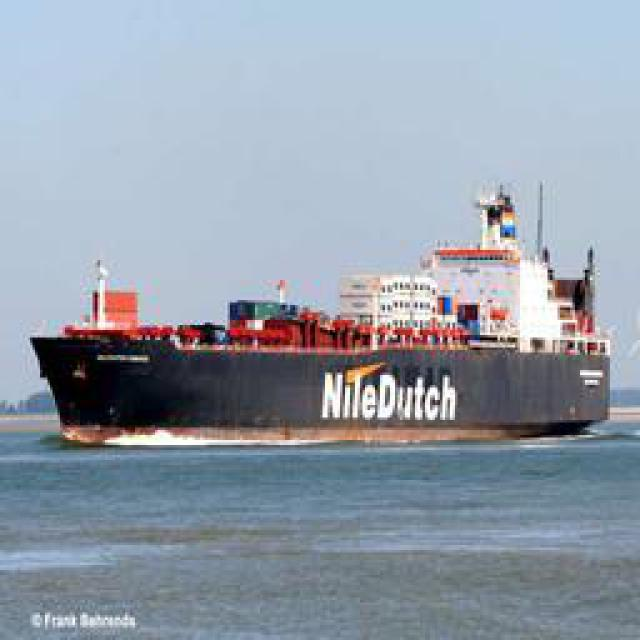Ship: (28, 171, 623, 446)
